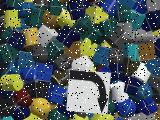Right: (66, 69, 111, 115)
